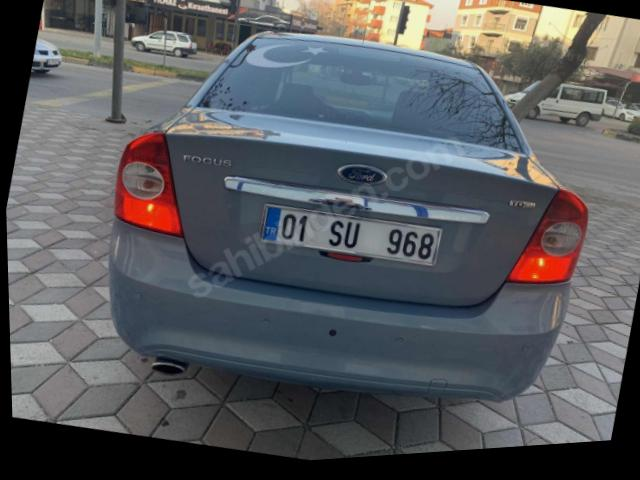plaka: (259, 204, 441, 266)
